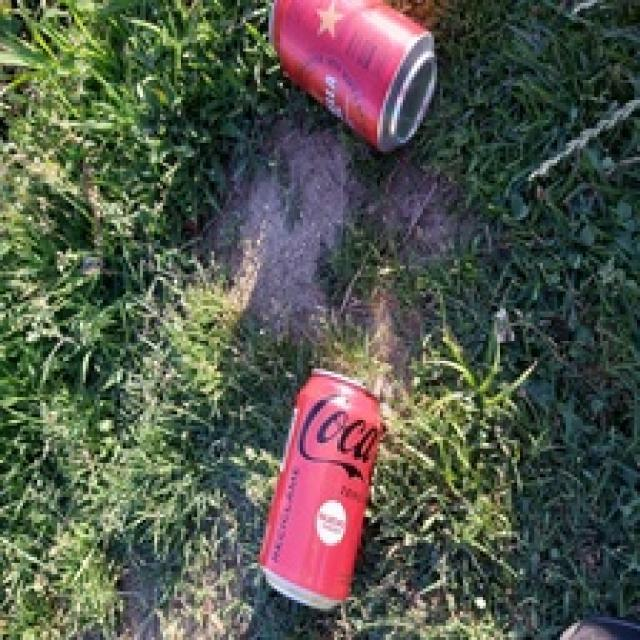recyclable: (257, 366, 385, 611), (265, 0, 436, 150)
